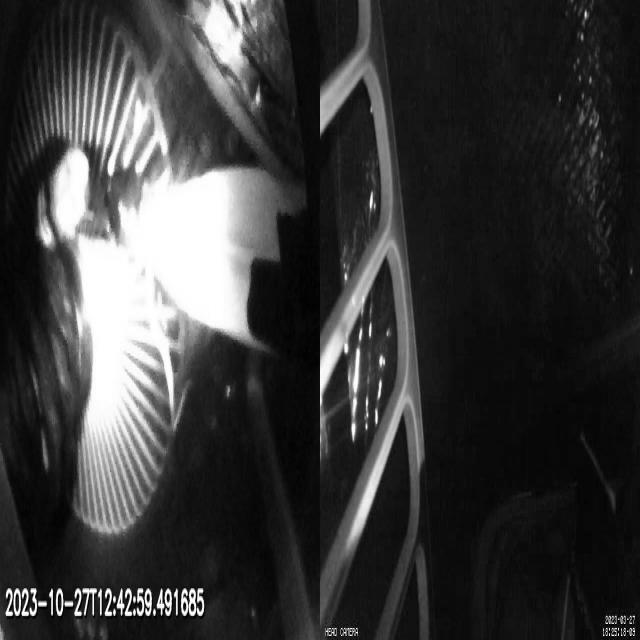head: (37, 150, 91, 248)
